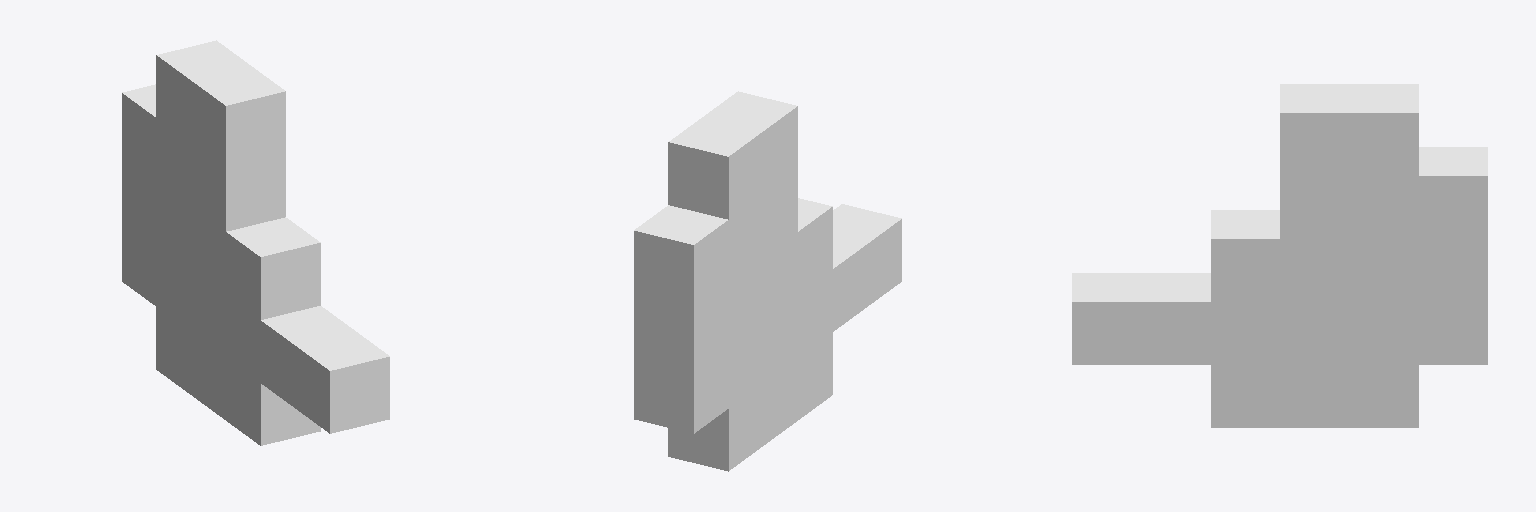
Rendered from YellowHouseParts-3.obj.
3 renders of one model, left to right at view 1: azimuth 30°, elevation 25°; view 2: azimuth 150°, elevation 25°; view 3: azimuth 270°, elevation 25°, orthographic.
Visible parts, largest first — view 1: object 1; view 2: object 1; view 3: object 1.
Boxes of the visible parts, box(x1,y1,x2,y2) form: object 1: box(122, 40, 389, 445); object 1: box(634, 91, 901, 471); object 1: box(1072, 84, 1487, 427).
Bounding box in the file's own units: 0.1 × 0.5 × 0.6.